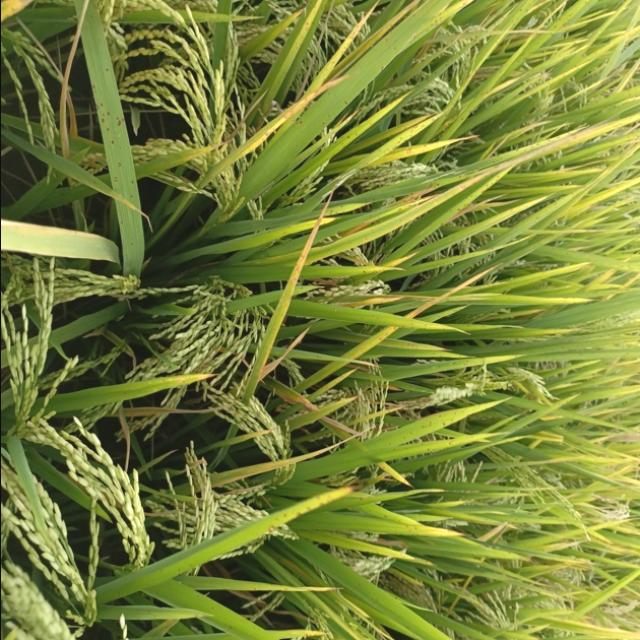Brown spot: (440, 112, 622, 204), (274, 182, 340, 306), (254, 315, 320, 387), (280, 395, 370, 443), (146, 369, 224, 396), (407, 524, 472, 548)
insects: (74, 28, 144, 242), (255, 479, 378, 541), (341, 95, 352, 107)
